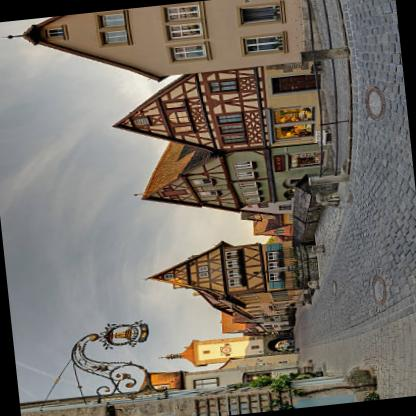manholes: (361, 80, 396, 124), (362, 269, 396, 308), (322, 276, 344, 298)
